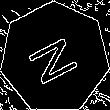N_NE: (24, 28, 85, 87)
